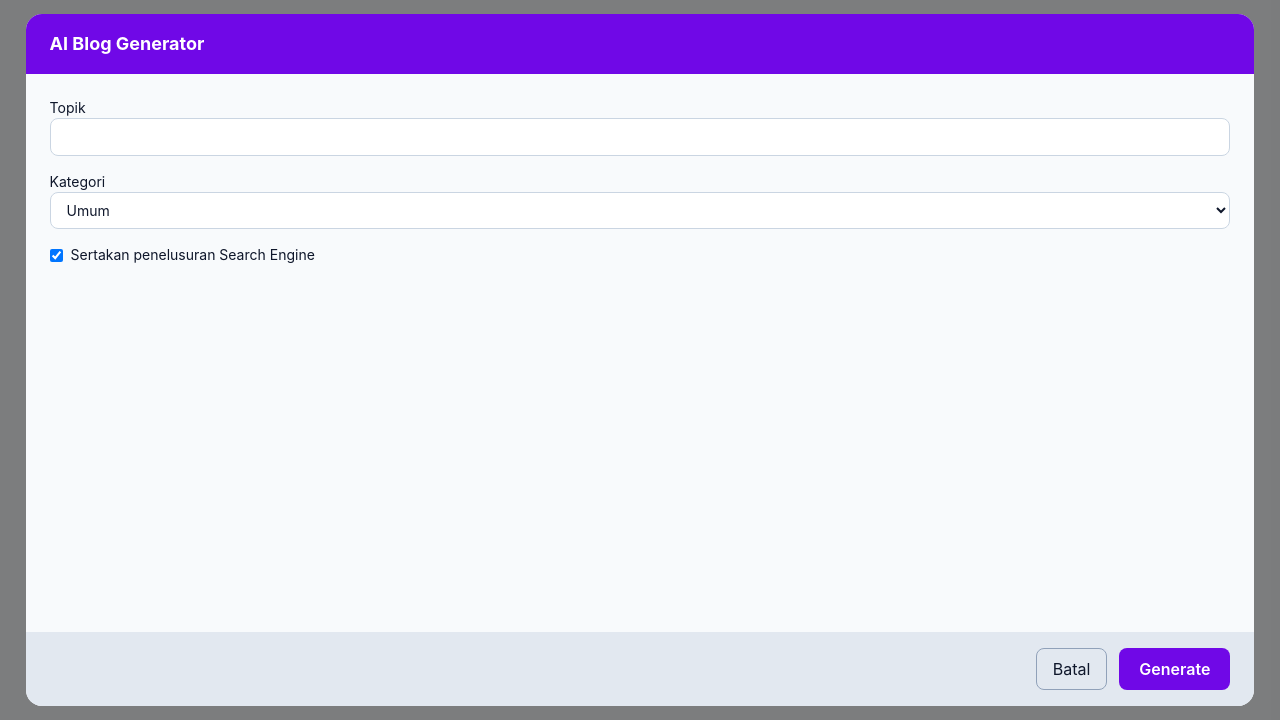
Test: AiPostGeneratorModal › generate dengan sumber, tinjau, dan tanpa sumber
Type "ai" into the field labelled "Topik" at (640, 137), box [50, 118, 1230, 156]
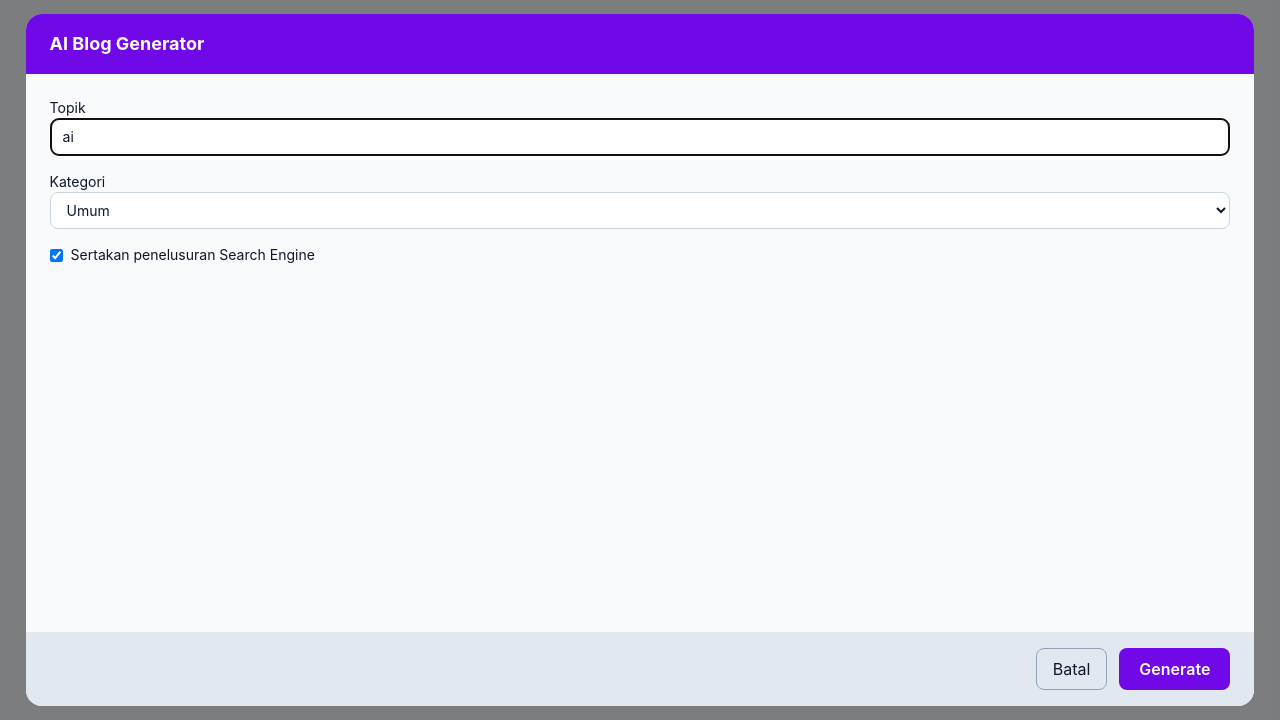
Click the button "Generate" at (1175, 669), box [1119, 648, 1230, 690]
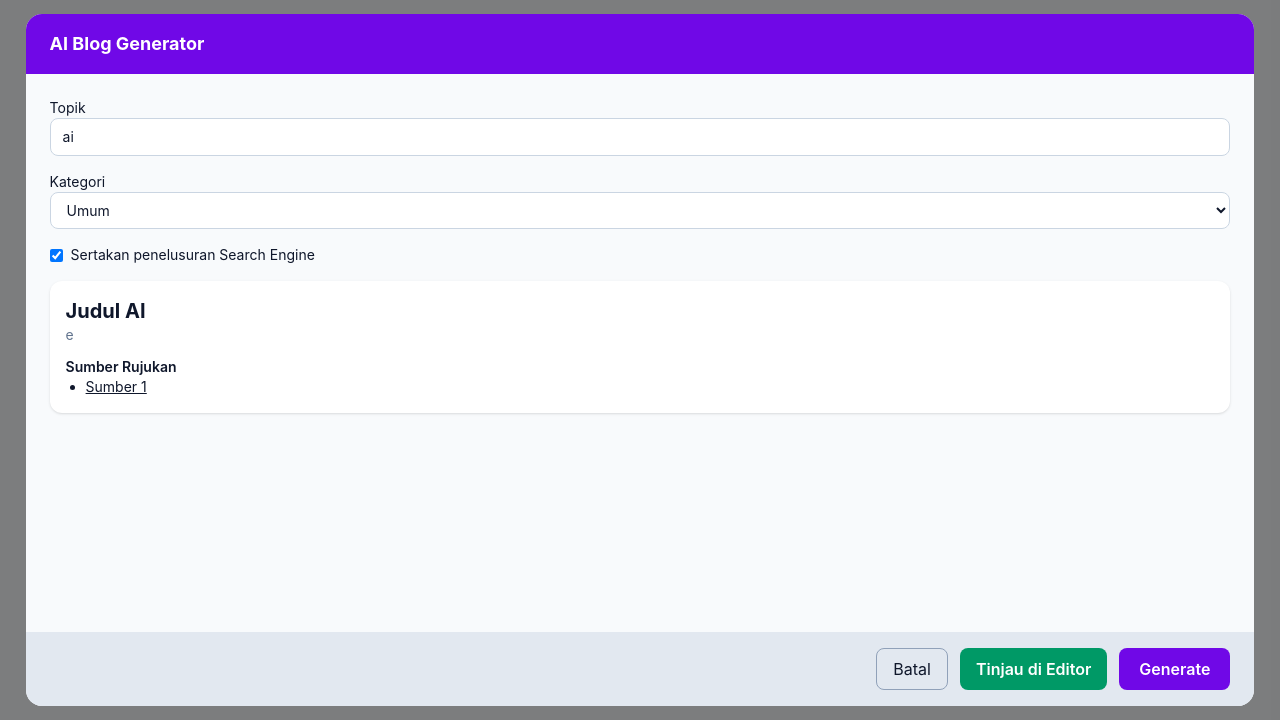
Check: the link "Sumber 1" is shown, box [86, 378, 147, 395]
Click the button "Tinjau di Editor" at (1034, 669), box [960, 648, 1107, 690]
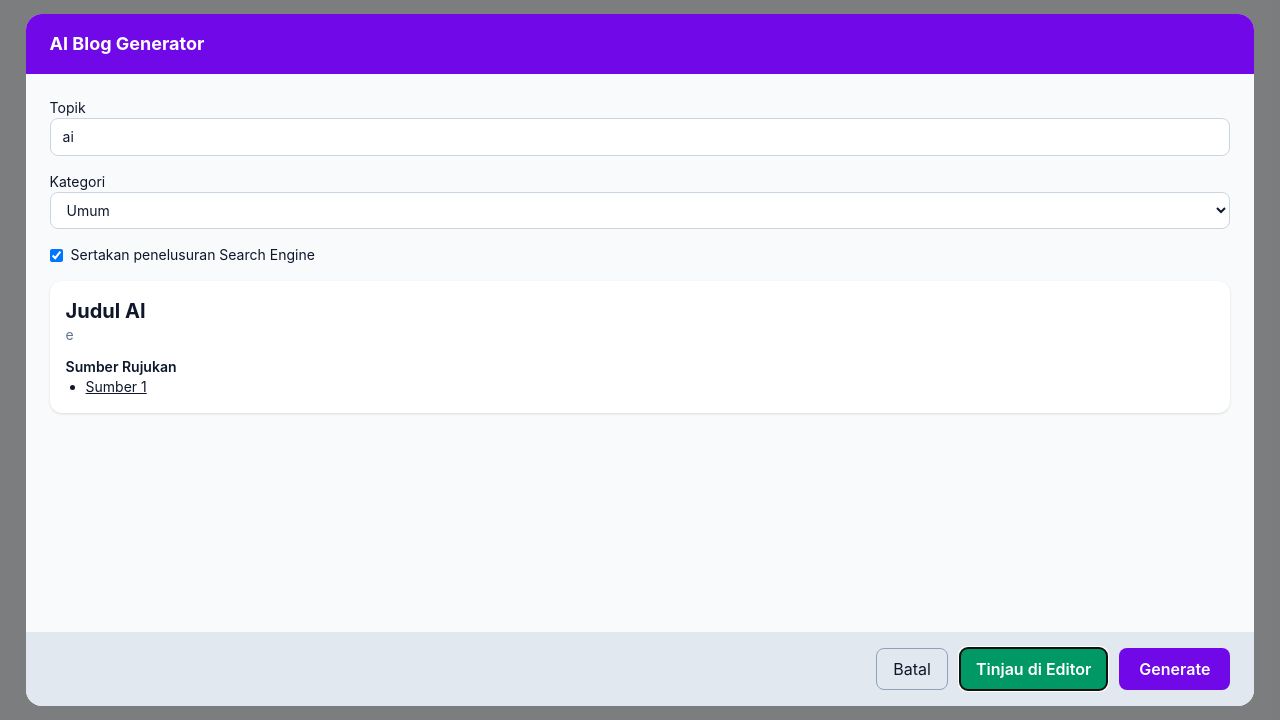
Select "Bisnis" in the dropdown labelled "Kategori" at (640, 211), box [50, 192, 1230, 229]
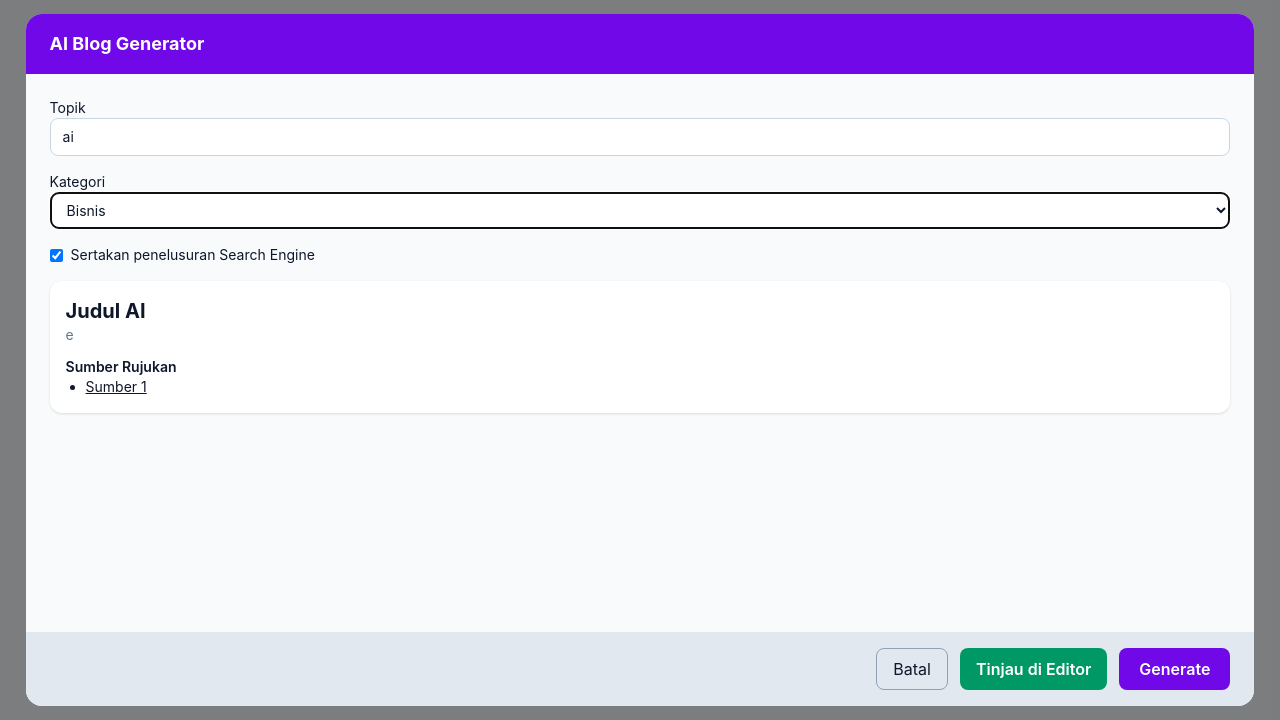
Click the checkbox labelled "Sertakan penelusuran Search Engine" at (56, 255), box [50, 249, 63, 262]
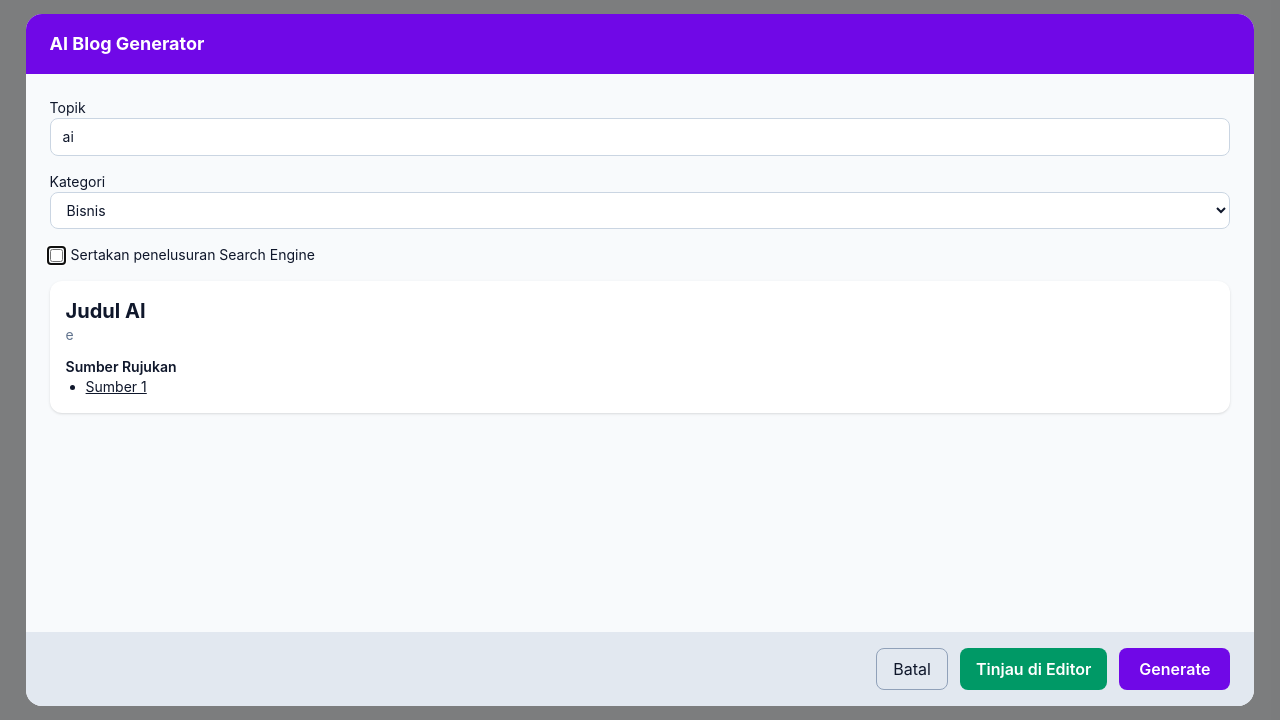
Click the button "Generate" at (1175, 669), box [1119, 648, 1230, 690]
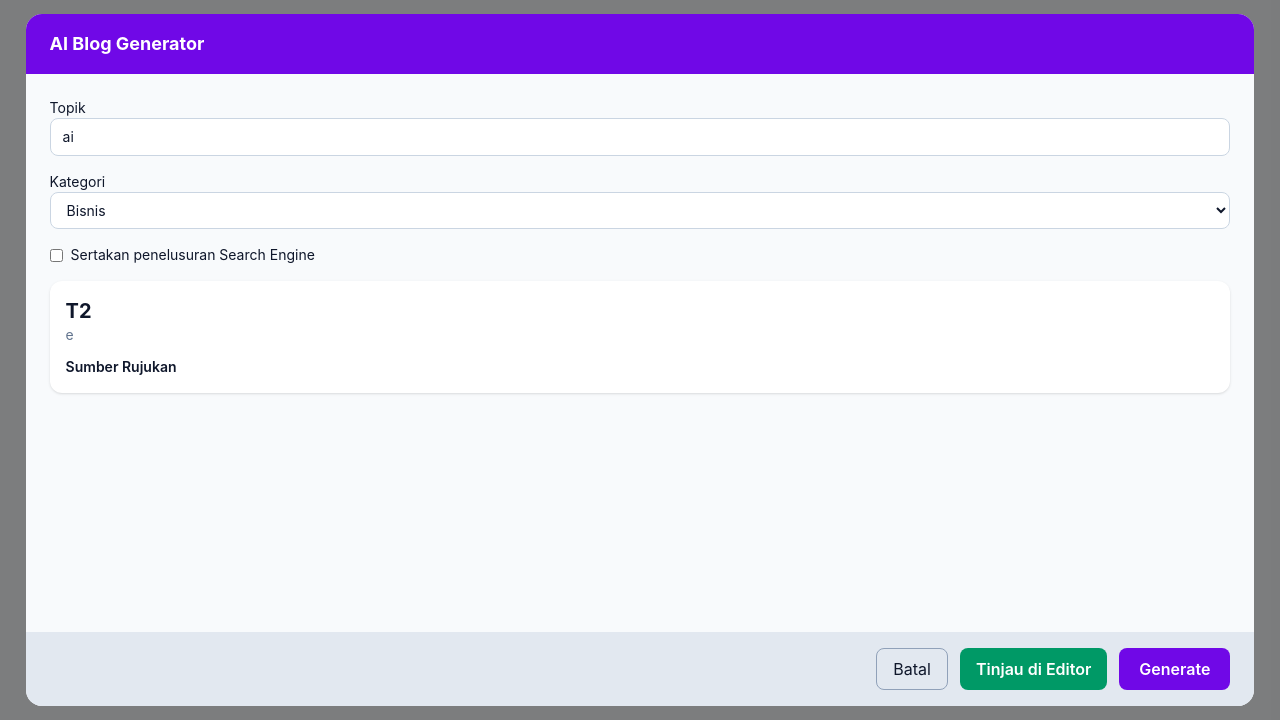
Check: the heading "T2" is shown, box [66, 299, 92, 323]
